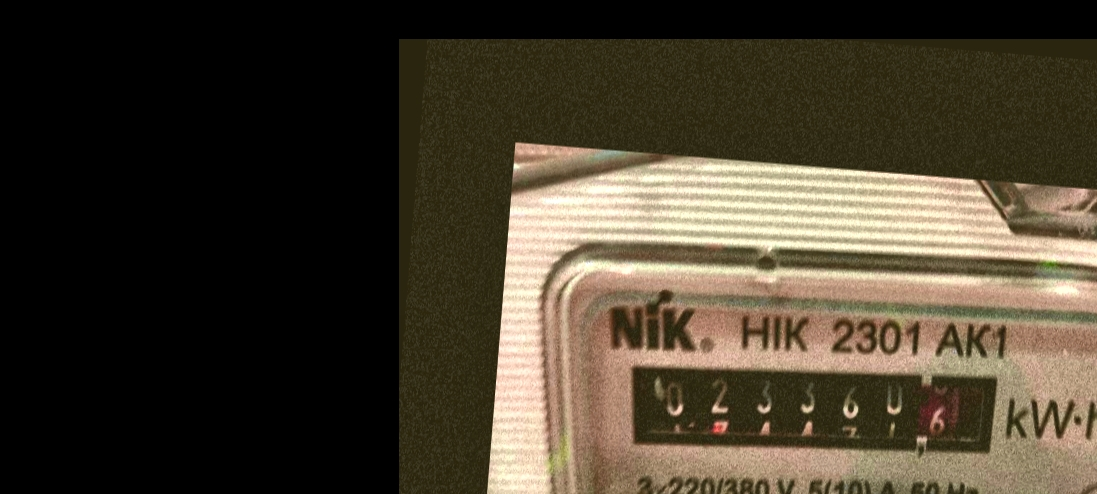0: (661, 375, 689, 419), (882, 378, 907, 417)
2: (705, 373, 734, 415)
3: (794, 376, 819, 416), (752, 375, 776, 416)
6: (836, 380, 865, 422), (927, 401, 951, 438)
screen: (604, 332, 1013, 482)
